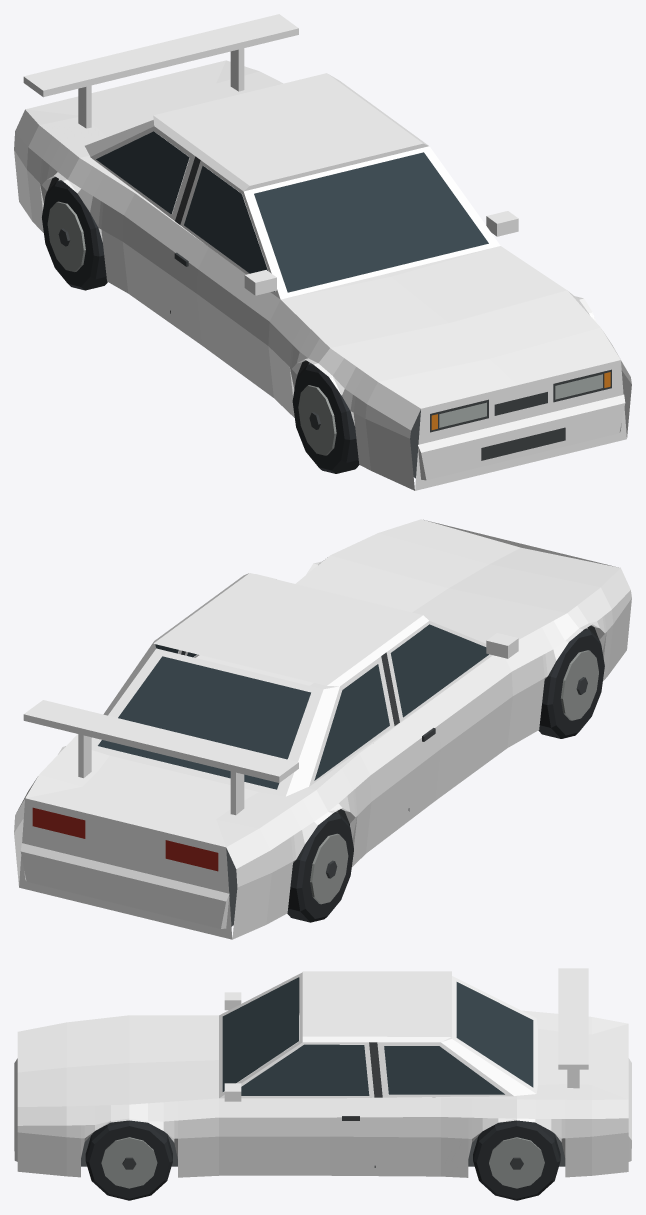
Rendered from whitlock_sagebrush_corrida.glb.
The picture shows the model from 3 angles, top to bottom: view 1: azimuth 30°, elevation 25°; view 2: azimuth 150°, elevation 25°; view 3: azimuth 270°, elevation 25°; orthographic projection. The views are drawn at different scales.
Visible parts, largest first — view 1: whitlock_sagebrush_corrida; view 2: whitlock_sagebrush_corrida; view 3: whitlock_sagebrush_corrida.
Boxes of the visible parts, left/top/right/bottom form: whitlock_sagebrush_corrida: left=14, top=14, right=631, bottom=490; whitlock_sagebrush_corrida: left=14, top=519, right=631, bottom=939; whitlock_sagebrush_corrida: left=14, top=968, right=631, bottom=1200.
Bounding box in the file's own units: 1.75 × 1.19 × 4.48.
8 materials, 1 textured.
